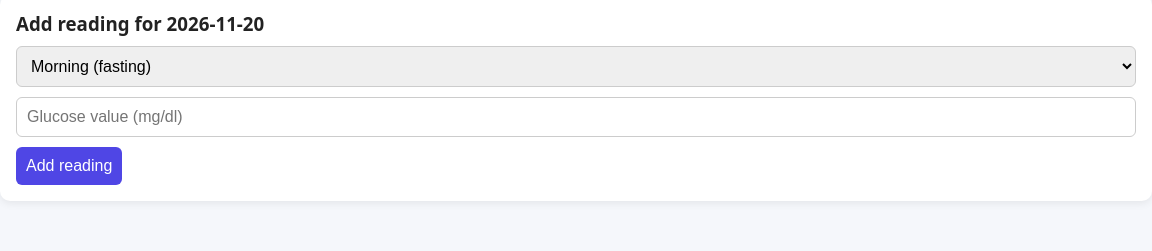
ReadingForm › shows the error message from the API and does not call onSaved
The width and height of the screenshot is (1152, 251).
Type "30" into the field with placeholder "Glucose value (mg/dl)" at coordinates (576, 117), box [16,97,1136,137]
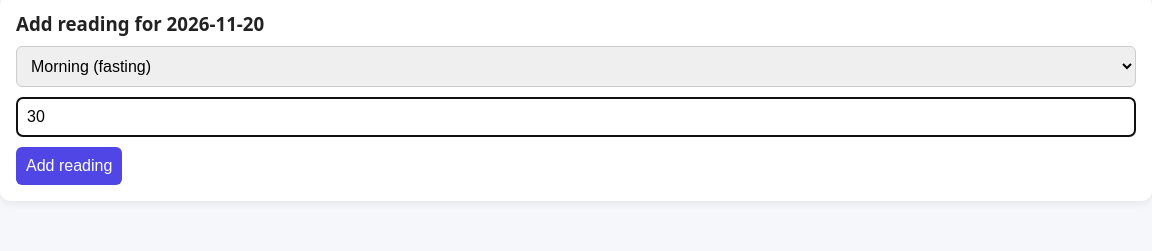
Click the button "Add reading" at coordinates (69, 166), box [16,147,122,185]
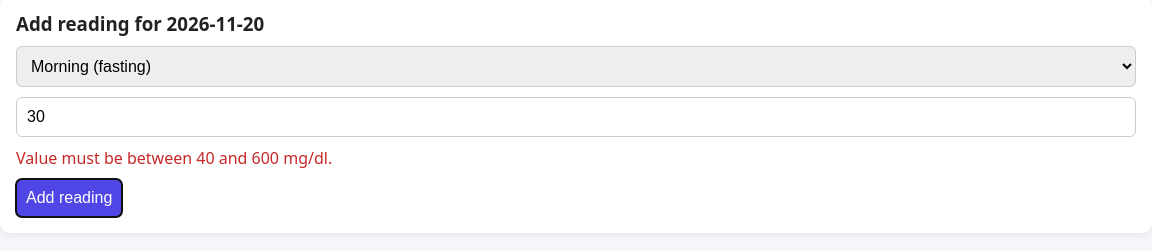
Check: the text "Value must be between 40 and 600 mg/dl." is shown, box [16,147,332,169]
